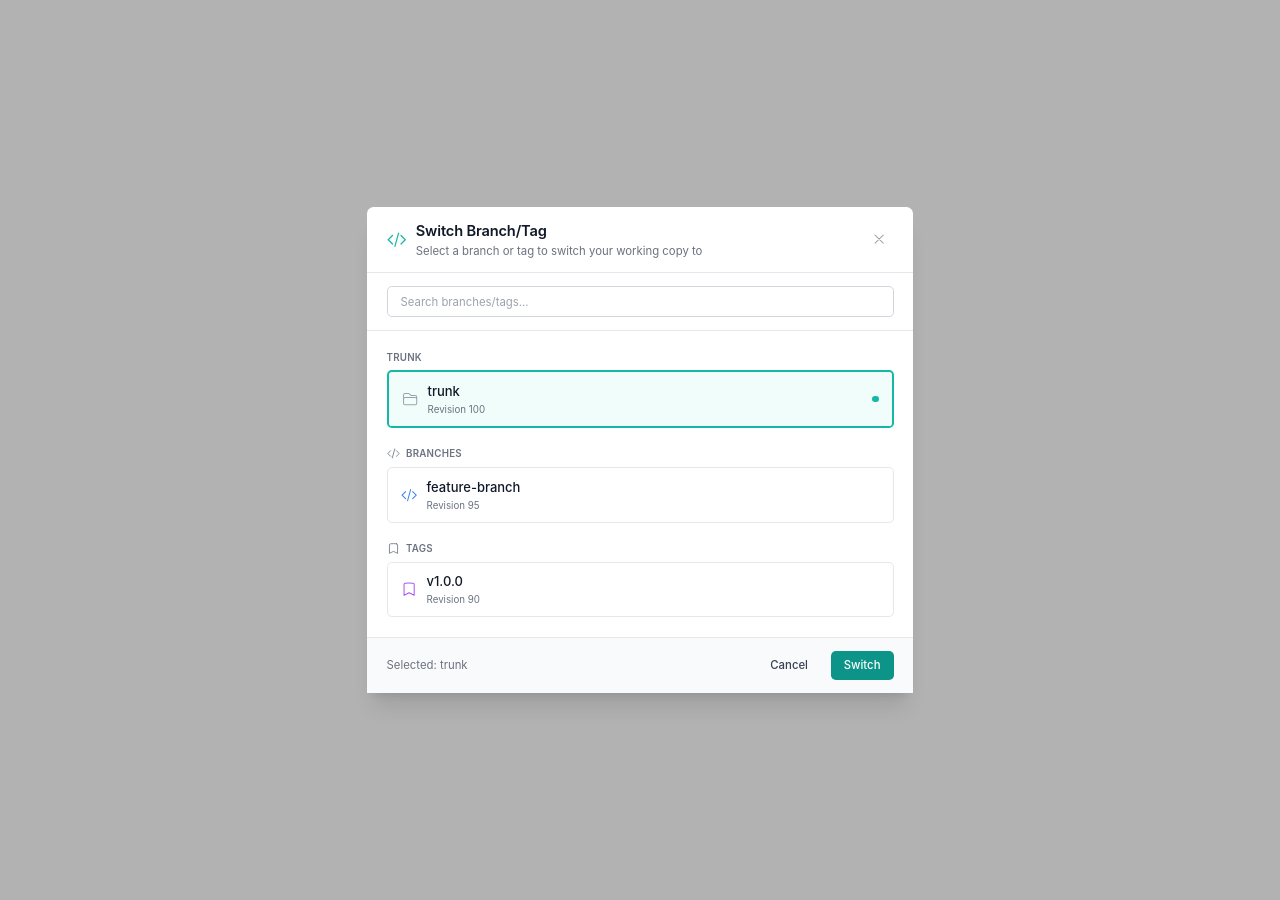
it: BranchSwitchModal › handles switch error gracefully
Expected: the text "feature-branch" is shown, [426,478,520,497]
Step 1. Click the button "feature-branch Revision 95" → coordinates (473, 487), box [386,467,894,522]
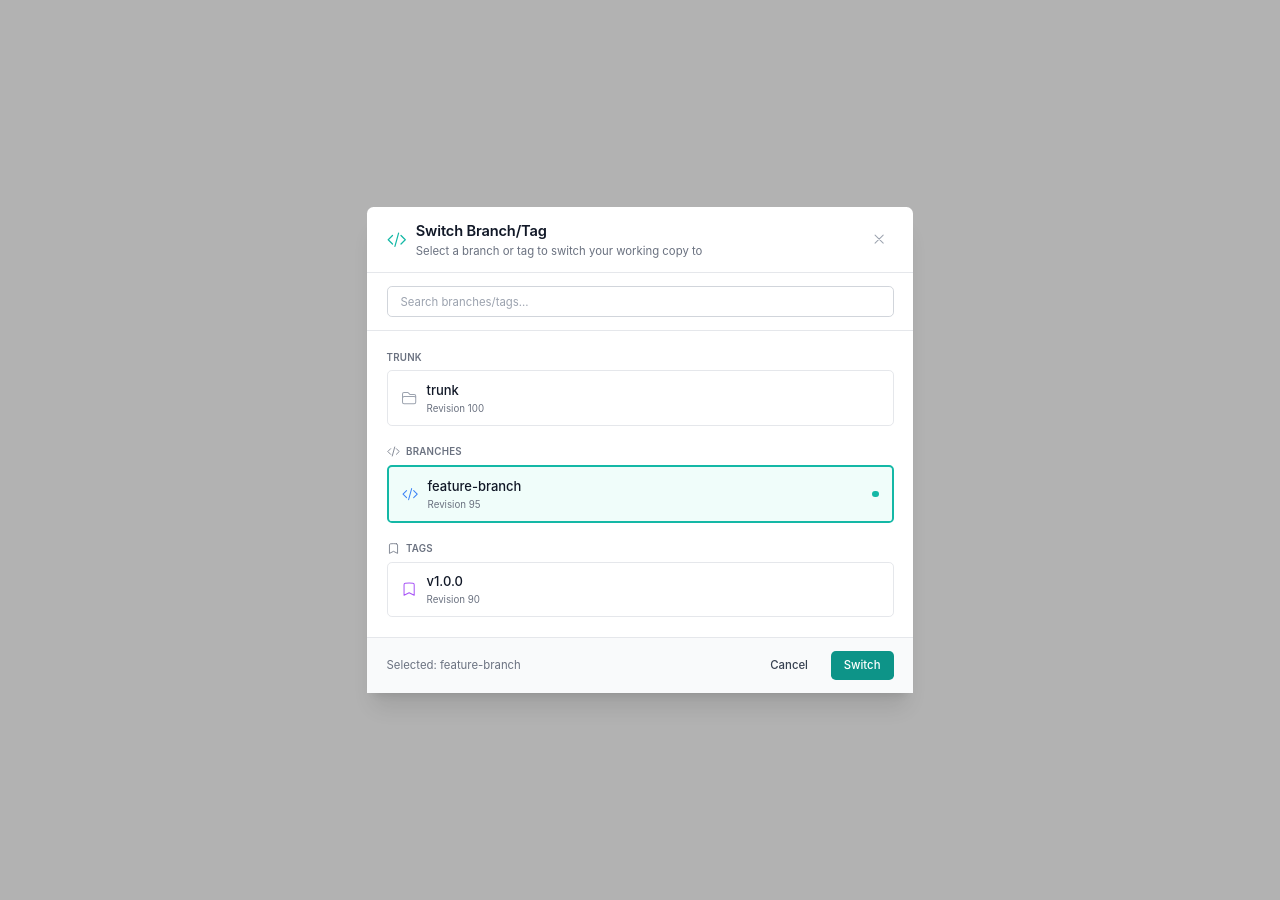
Step 2. Click the button "Switch" → coordinates (862, 665), box [831,651,894,680]
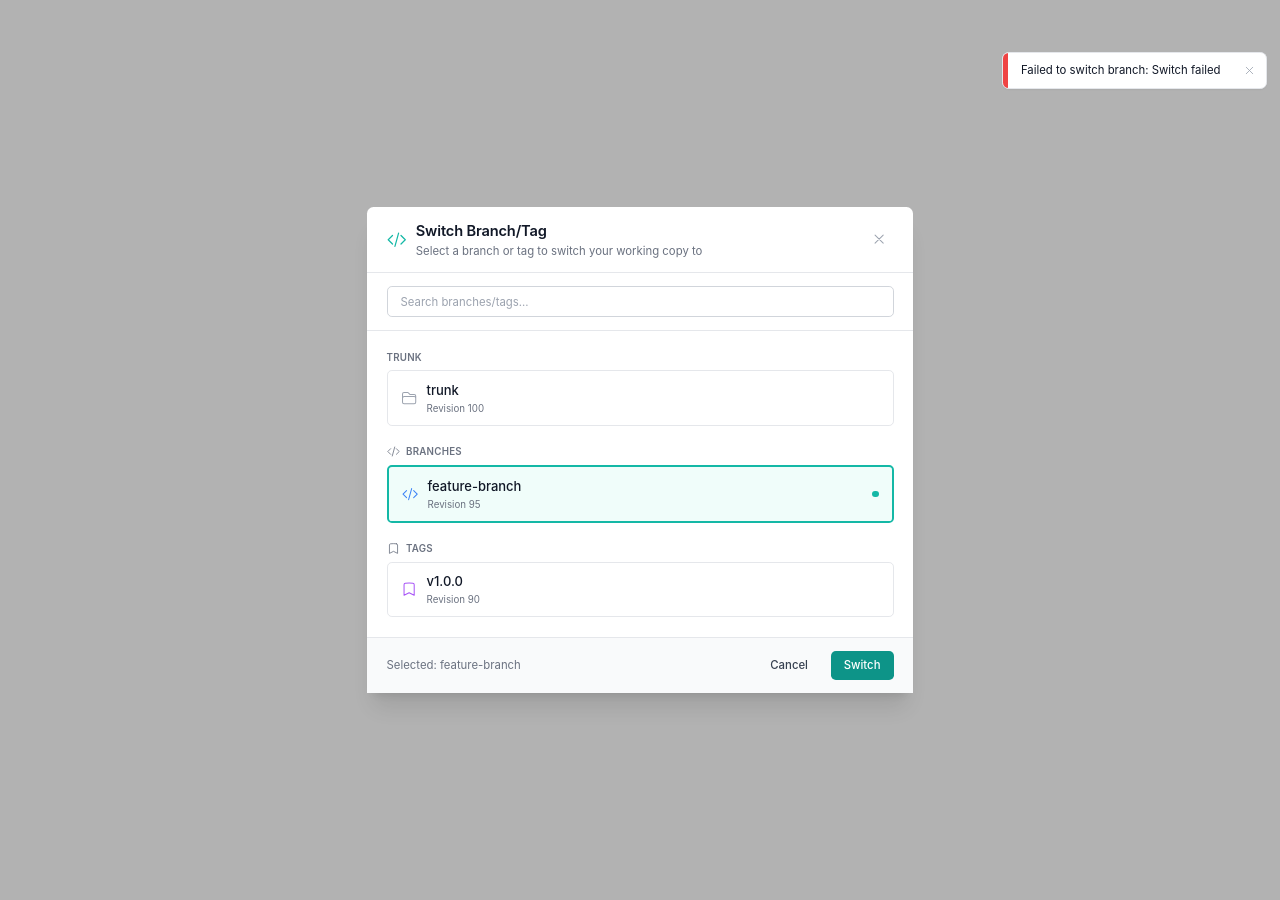
Result: the text "Failed to switch branch: Switch failed" is shown at [1021,63,1220,78]
